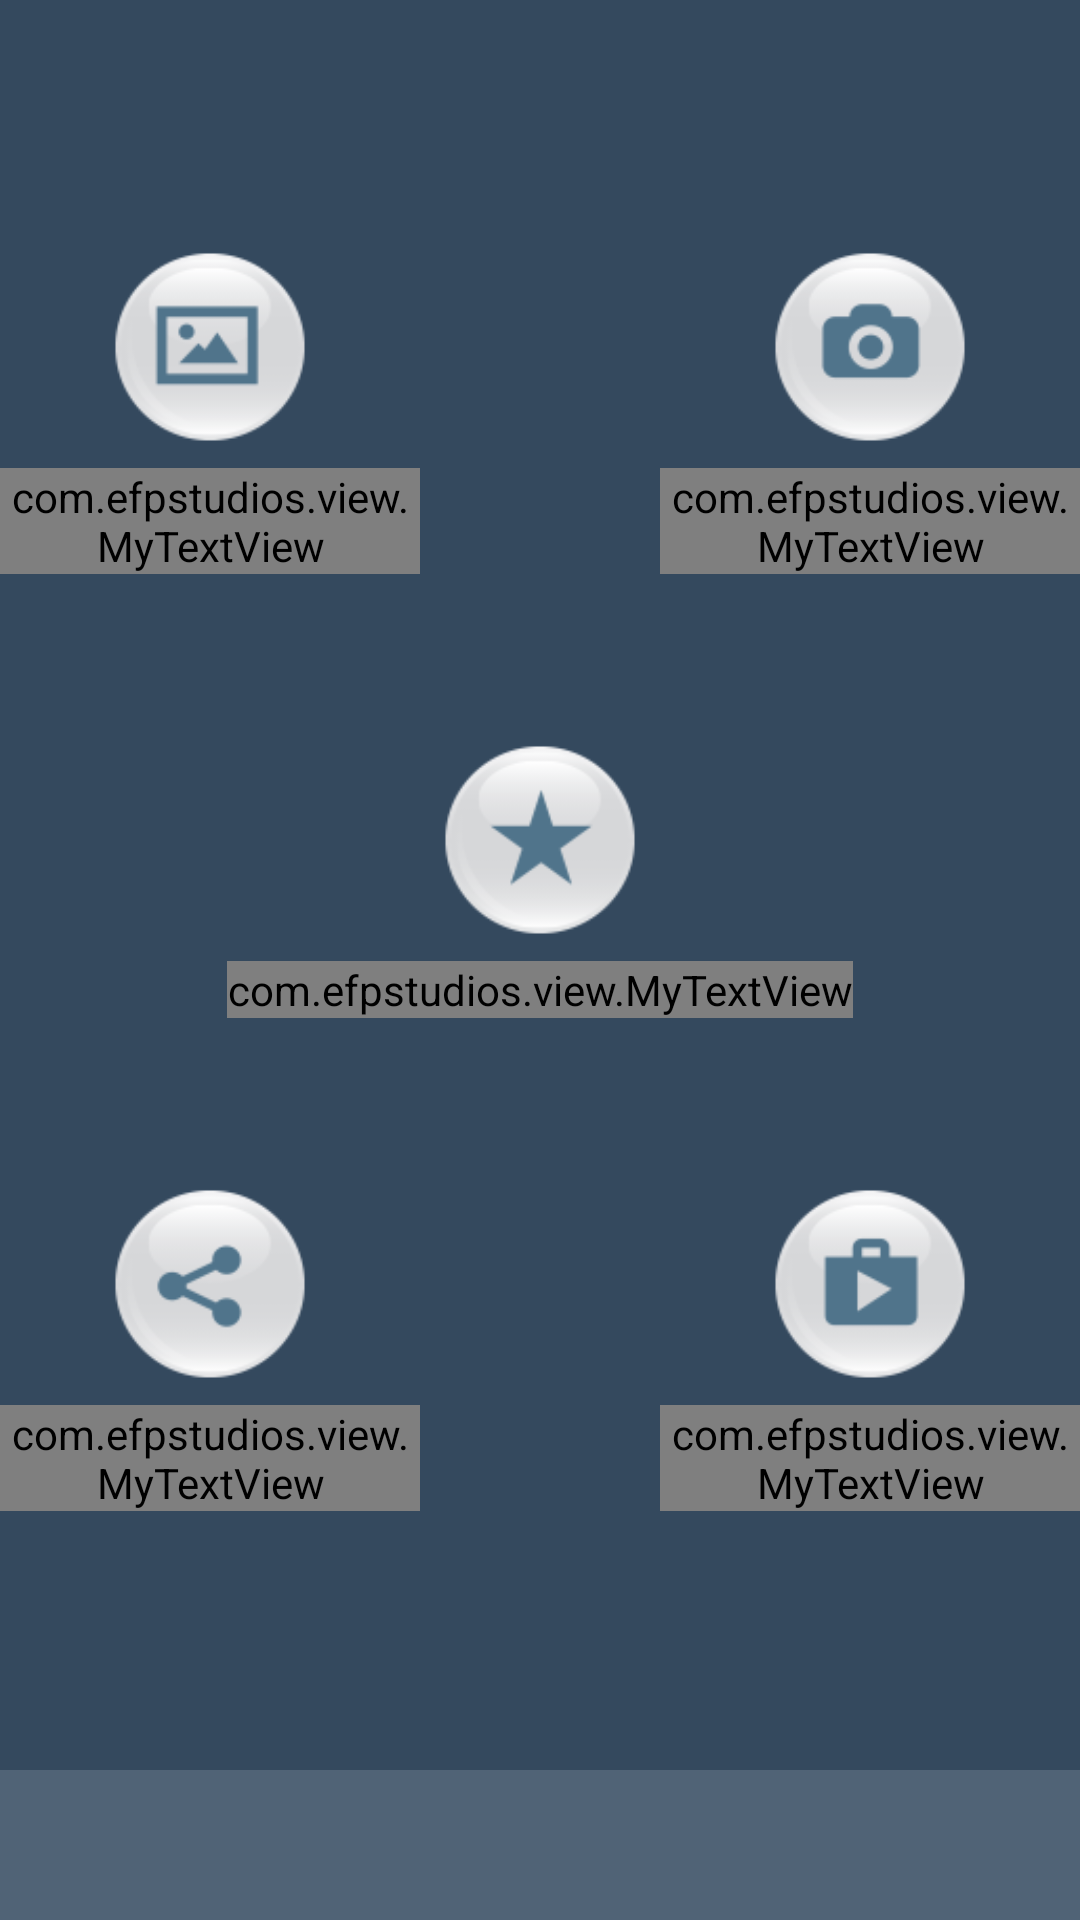

Named icons in this screenshot (1080w x 1920h) and their centers, (x,y):
otherapp: (870,1284)
rate: (540,840)
selectfromgallery: (210,347)
selectftromcamera: (870,347)
share: (210,1284)
